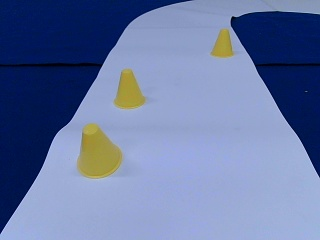cone: (76, 124, 123, 177), (113, 70, 145, 108), (210, 29, 232, 57)
